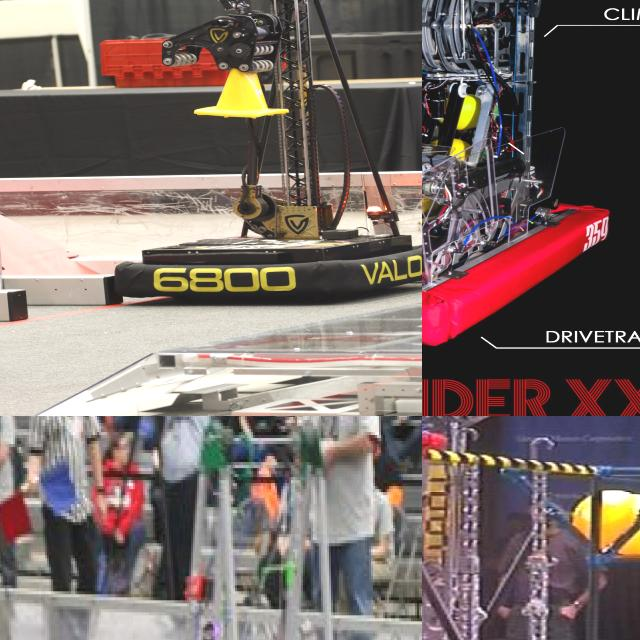FRC-Robots: (105, 0, 422, 321), (422, 0, 638, 374), (129, 416, 422, 640), (422, 416, 640, 640)
